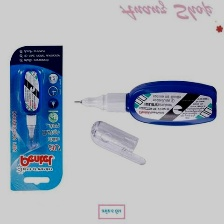book: (8, 40, 66, 192)
correction_fluid: (71, 78, 217, 126), (18, 67, 43, 149)
